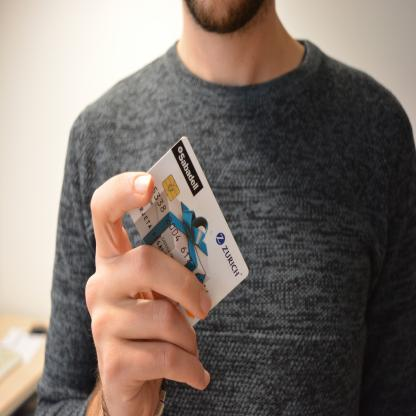tarjeta: (126, 134, 249, 328)
